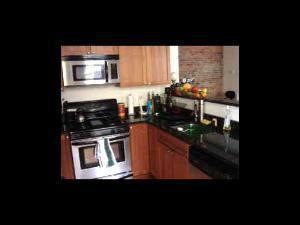Electrodomestico: (70, 120, 132, 178)
Lavaplatos: (169, 119, 220, 139)
